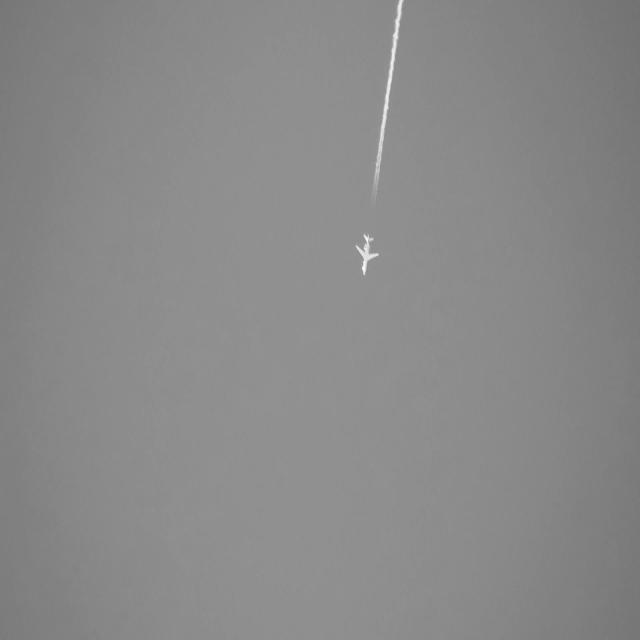aeroplane: (356, 231, 381, 277)
